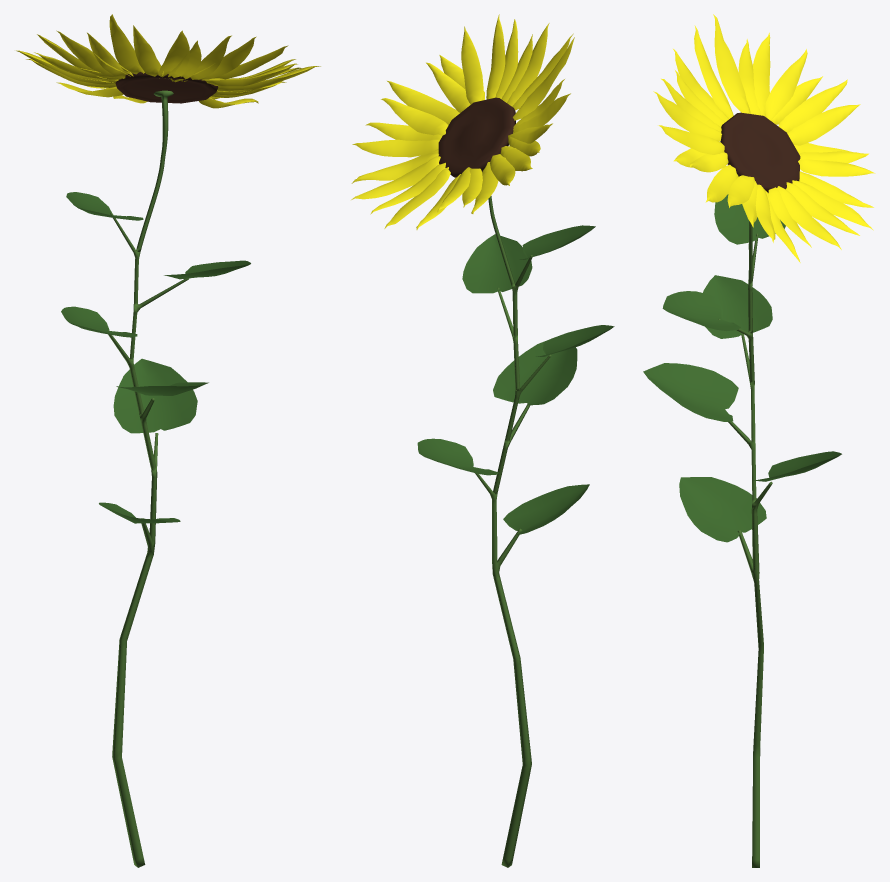
The model's file is flower_sunflower.fbx.
3 views of the same model, side by side, from view 1: azimuth 30°, elevation 25°; view 2: azimuth 150°, elevation 25°; view 3: azimuth 270°, elevation 25° (orthographic). The views are drawn at different scales.
Visible parts, largest first — view 1: Stem, Flower, FlowerCore; view 2: Flower, Stem, FlowerCore; view 3: Flower, Stem, FlowerCore.
Part boxes in pixels (left/top/right/bottom): Stem: left=61, top=90, right=250, bottom=867; Flower: left=16, top=14, right=320, bottom=108; FlowerCore: left=115, top=72, right=218, bottom=103; Flower: left=351, top=14, right=574, bottom=229; Stem: left=417, top=196, right=614, bottom=867; FlowerCore: left=438, top=97, right=515, bottom=177; Flower: left=653, top=14, right=875, bottom=262; Stem: left=643, top=194, right=841, bottom=867; FlowerCore: left=720, top=112, right=800, bottom=192.
Bounding box in the file's own units: 280 × 942 × 239.
